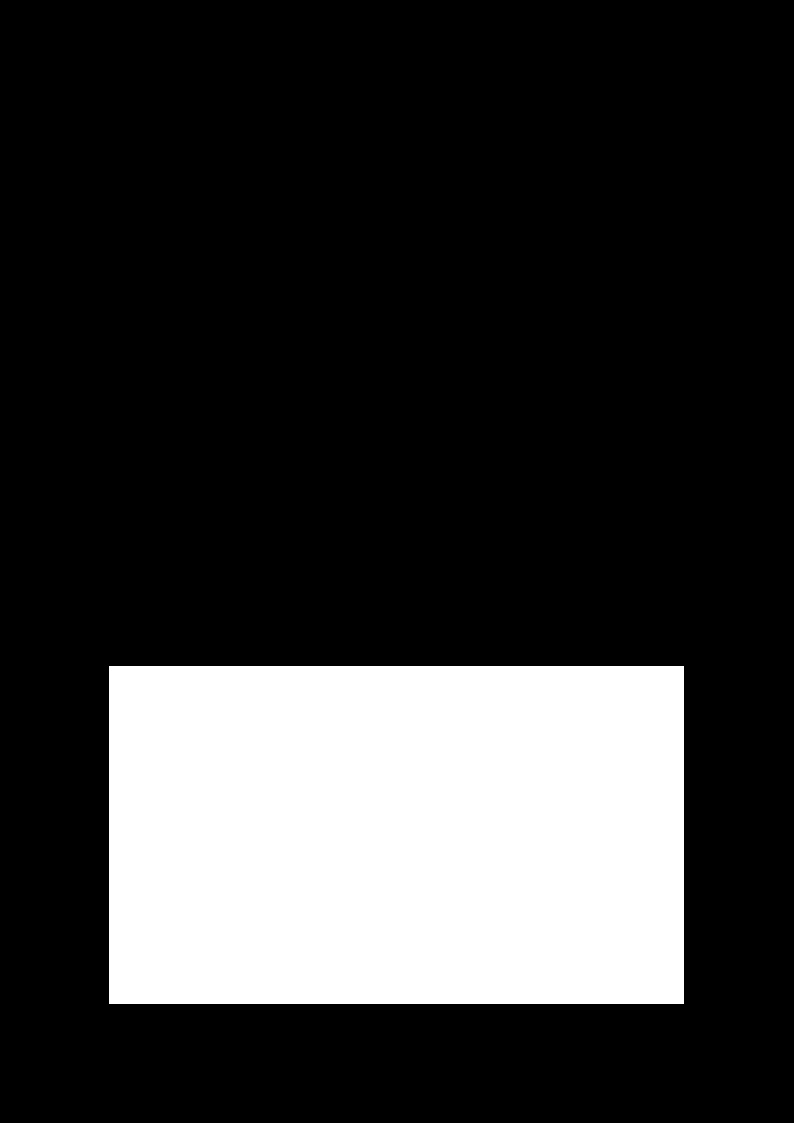table: (109, 666, 683, 1003)
